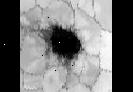good_void: (38, 19, 86, 73)
